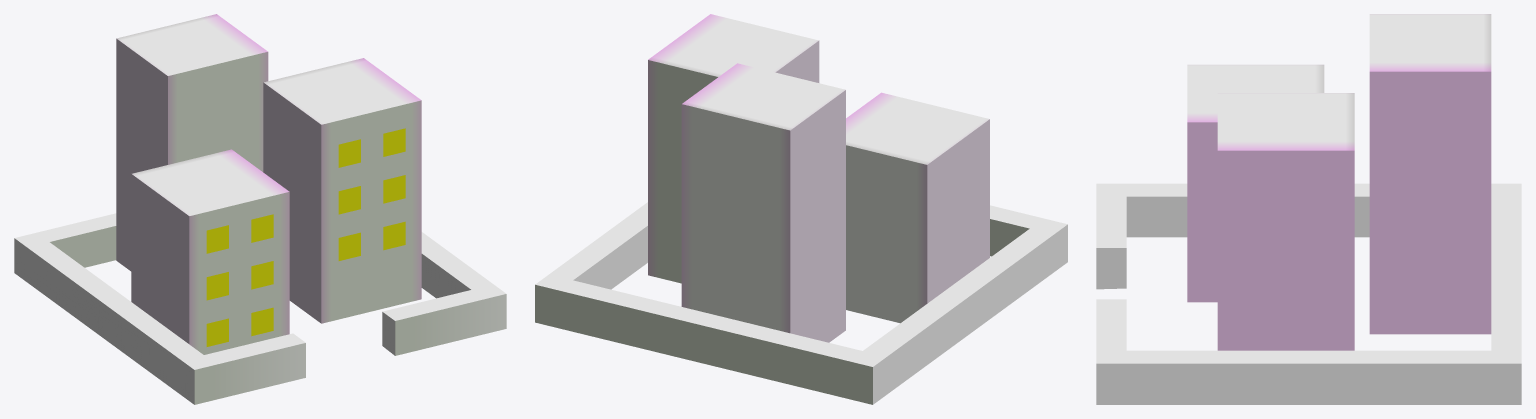
The model's file is City.Neutral.glb.
3 renders of one model, left to right at view 1: azimuth 30°, elevation 25°; view 2: azimuth 150°, elevation 25°; view 3: azimuth 270°, elevation 25°, orthographic. The views are drawn at different scales.
Visible parts, largest first — view 1: City.Neutral; view 2: City.Neutral; view 3: City.Neutral.
Part boxes in pixels (x1,y1,x2,y2): City.Neutral: (14,14,506,404); City.Neutral: (535,14,1067,404); City.Neutral: (1096,14,1521,404).
Bounding box in the file's own units: 2.8 × 1.91 × 2.8.
2 materials, 1 textured.
